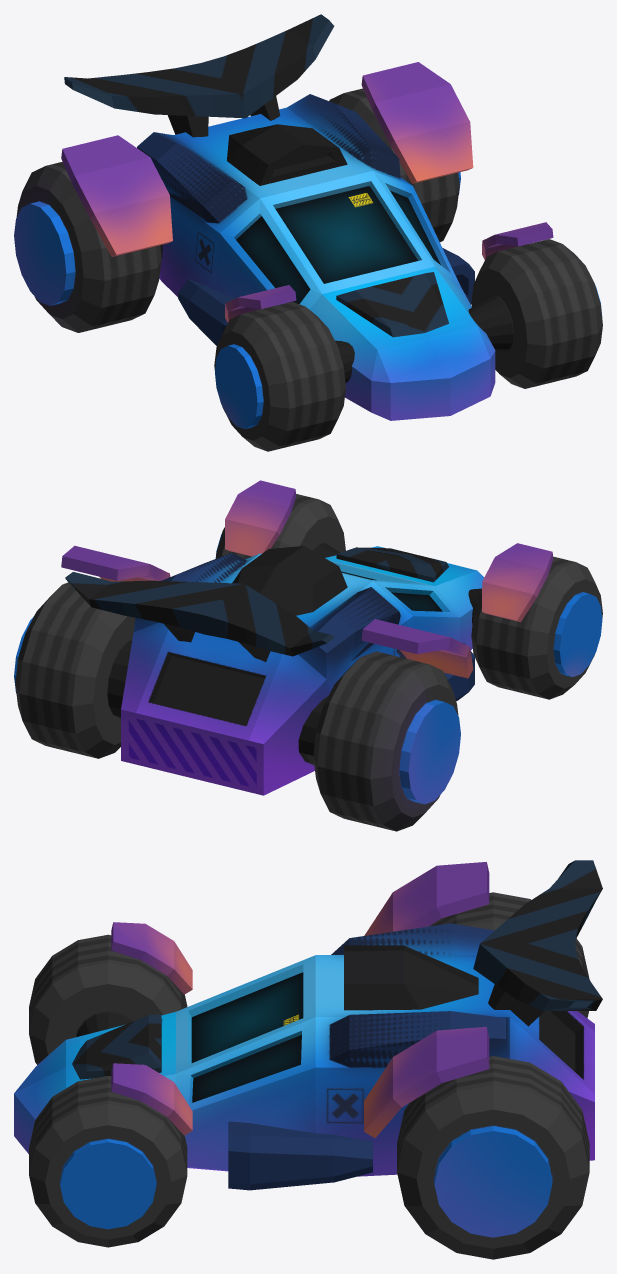
File: tiny-racer-1.glb
3 renders of one model, top to bottom at view 1: azimuth 30°, elevation 25°; view 2: azimuth 150°, elevation 25°; view 3: azimuth 270°, elevation 25°, orthographic. The views are drawn at different scales.
Parts seen in each view (by area): view 1: Cube.176, wheel_2, wheel_1, wheel_3, Cube.174, Cylinder.201, Cylinder.199, wheel_0, Cube.175, Cylinder.200, Cylinder.202; view 2: Cube.176, wheel_3, wheel_0, wheel_2, Cube.174, Cylinder.202, Cylinder.200, Cylinder.201, wheel_1, Cylinder.199, Cube.175; view 3: Cube.176, wheel_0, wheel_1, Cube.174, wheel_2, Cube.175, Cylinder.199, Cylinder.201, Cylinder.200, Cylinder.202, wheel_3.
Part boxes in pixels (x1,y1,x2,y2): Cube.176: (137,94,495,420); wheel_2: (214,301,354,451); wheel_1: (468,239,602,388); wheel_3: (14,162,162,332); Cube.174: (64,14,334,137); Cylinder.201: (61,135,172,256); Cylinder.199: (361,62,473,183); wheel_0: (329,88,460,242); Cube.175: (178,248,474,345); Cylinder.200: (482,222,553,259); Cylinder.202: (225,285,296,322); Cube.176: (121,546,484,795); wheel_3: (298,651,460,831); wheel_0: (14,582,135,758); wheel_2: (468,556,602,699); Cube.174: (65,572,334,661); Cylinder.202: (482,543,553,621); Cylinder.200: (225,480,296,556); Cylinder.201: (361,619,473,678); wheel_1: (215,494,345,559); Cylinder.199: (61,545,170,581); Cube.175: (444,643,474,700); Cube.176: (14,923,594,1176); wheel_0: (397,1056,589,1259); wheel_1: (29,1076,187,1247); Cube.174: (473,860,602,1026); wheel_2: (29,934,187,1064); Cube.175: (228,1121,372,1190); Cylinder.199: (364,1026,489,1137); Cylinder.201: (364,862,489,935); Cylinder.200: (111,1063,192,1135); Cylinder.202: (111,922,192,994); wheel_3: (428,892,589,1018).
Bounding box in the file's own units: 1.24 × 0.6175 × 1.42.
Materials: 1 (1 with a texture image).
